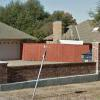Chimney: (47, 15, 69, 45)
